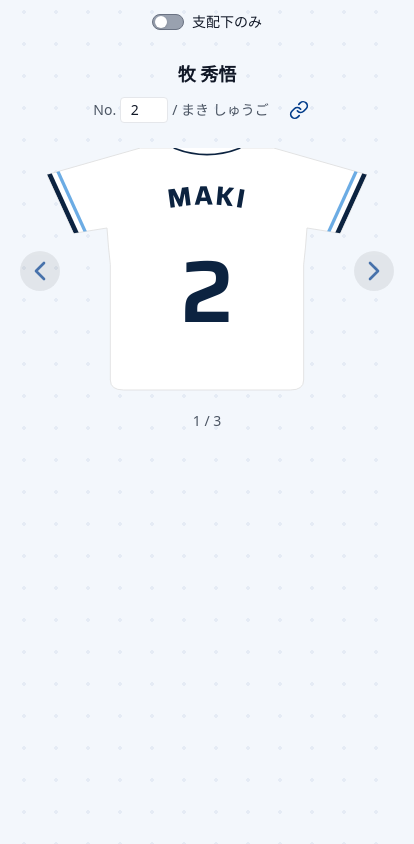
Test: UniformViewer › filters to roster only when switch is toggled
This screenshot has width=414, height=844.
Click the checkbox at (207, 22), box left=152, top=12, right=262, bottom=31
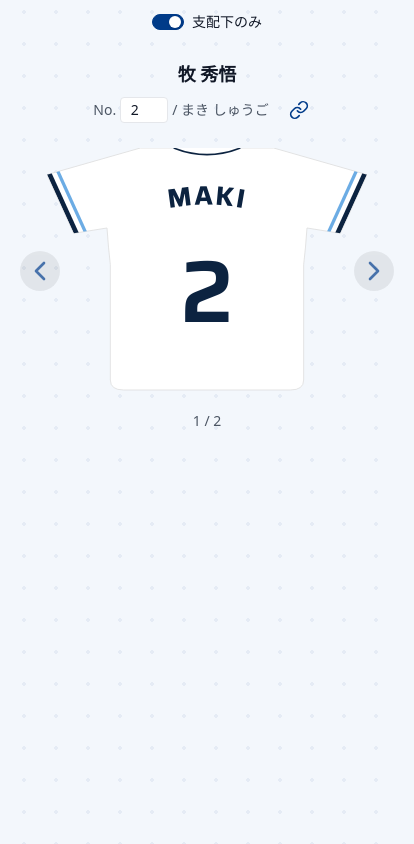
expect the text "1 / 2" is shown: met, box left=193, top=411, right=221, bottom=430
